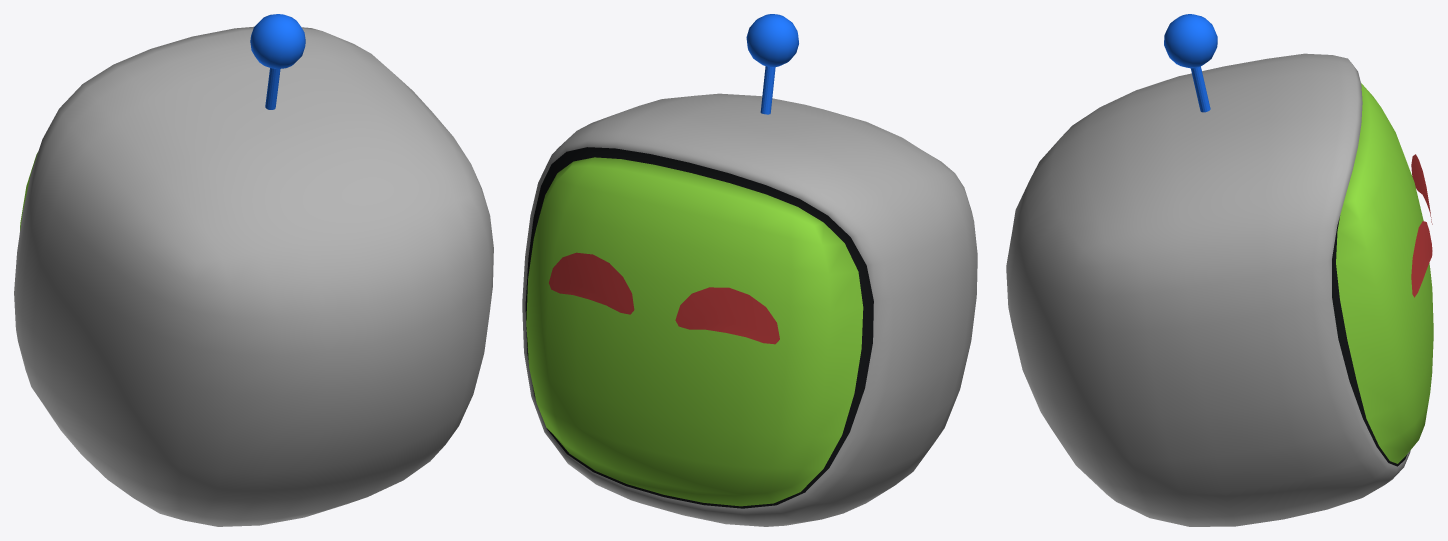
Rendered from E_emsh_037.fbx.
3 views of the same model, side by side, from view 1: azimuth 30°, elevation 25°; view 2: azimuth 150°, elevation 25°; view 3: azimuth 270°, elevation 25° (orthographic). The views are drawn at different scales.
Parts seen in each view (by area): view 1: robot; view 2: robot; view 3: robot.
Boxes of the visible parts, box(x1,y1,x2,y2) form: robot: box(14, 14, 493, 526); robot: box(522, 14, 977, 526); robot: box(1006, 14, 1433, 526).
Size of the model in its own units: 36.29 by 42.94 by 34.92.
